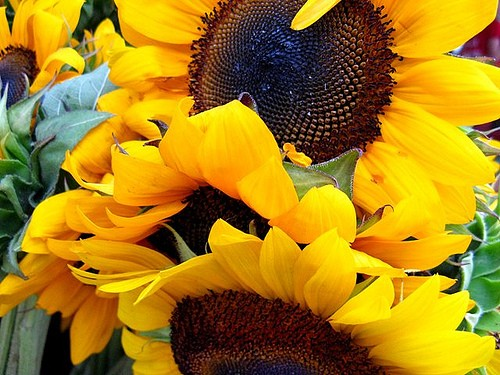flower: (95, 0, 500, 222), (52, 216, 500, 373)
